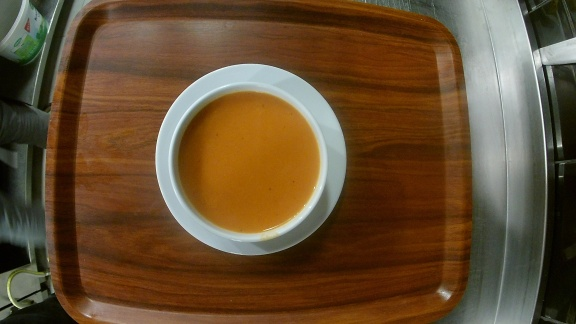domatescorba: (153, 62, 349, 257)
